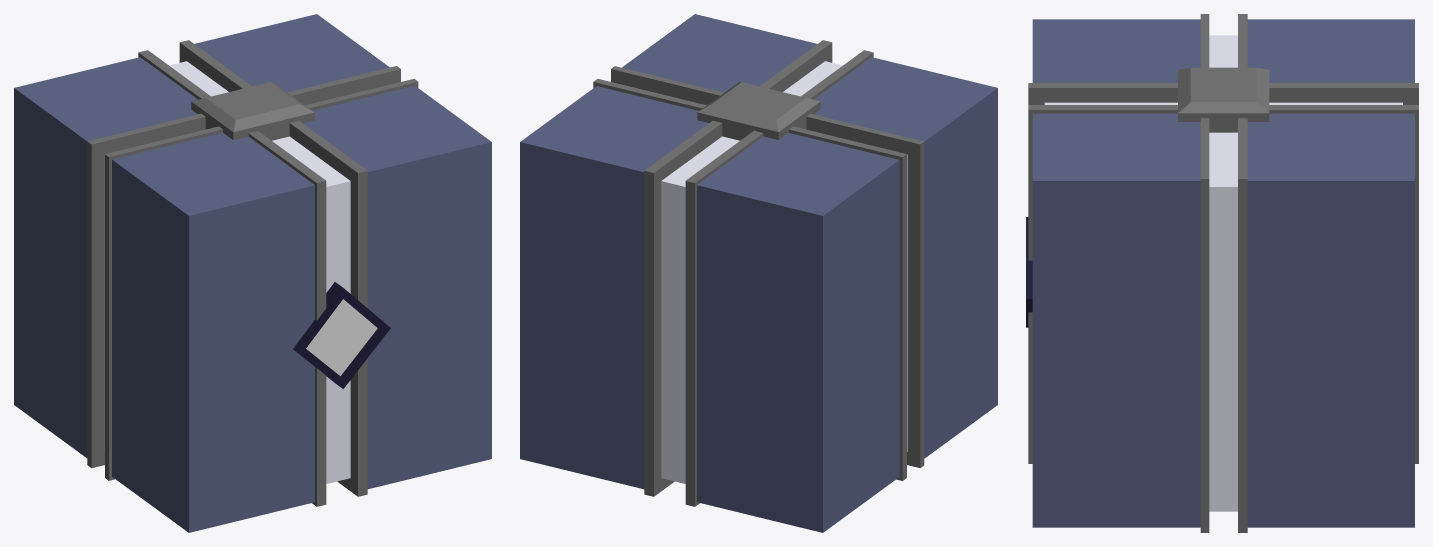
The model's file is cubo_energia_02.fbx.
3 renders of one model, left to right at view 1: azimuth 30°, elevation 25°; view 2: azimuth 150°, elevation 25°; view 3: azimuth 270°, elevation 25°, orthographic. The views are drawn at different scales.
Visible parts, largest first — view 1: Box011; view 2: Box011; view 3: Box011.
Boxes of the visible parts, bbox=[...] form: Box011: bbox=[14, 14, 491, 532]; Box011: bbox=[520, 14, 997, 532]; Box011: bbox=[1026, 14, 1418, 532].
Size of the model in its own units: 0.5188 by 0.5358 by 0.522.
